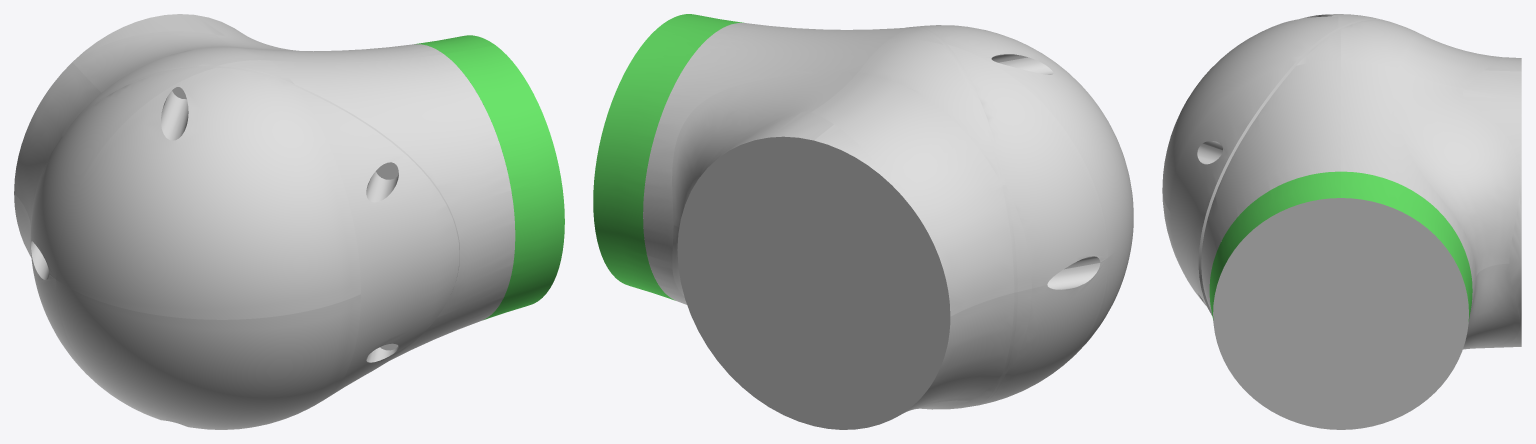
3 renders of one model, left to right at view 1: azimuth 30°, elevation 25°; view 2: azimuth 150°, elevation 25°; view 3: azimuth 270°, elevation 25°, orthographic. The views are drawn at different scales.
Visible parts, largest first — view 1: Mesh_0.022; view 2: Mesh_0.022; view 3: Mesh_0.022.
Part boxes in pixels (x1,y1,x2,y2): Mesh_0.022: [14, 14, 564, 429]; Mesh_0.022: [593, 14, 1133, 429]; Mesh_0.022: [1162, 14, 1521, 429].
Size of the model in its own units: 0.2054 by 0.1572 by 0.1539.
